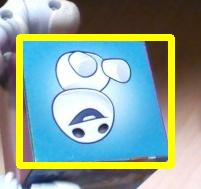Blue1: (19, 37, 171, 165)
